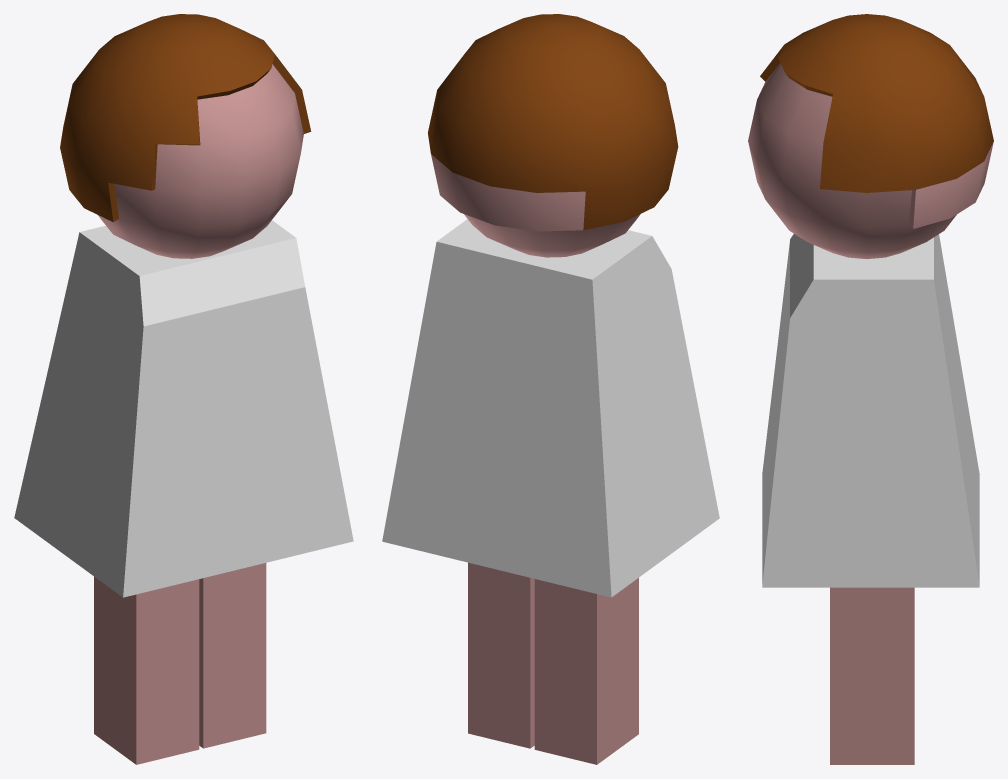
Rendered from Chi_Male.FBX.
The picture shows the model from 3 angles, left to right: view 1: azimuth 30°, elevation 25°; view 2: azimuth 150°, elevation 25°; view 3: azimuth 270°, elevation 25°; orthographic projection.
Parts seen in each view (by area): view 1: Chi_Shirt, Child_Male_Head, Child_Male_Leg; view 2: Chi_Shirt, Child_Male_Head, Child_Male_Leg; view 3: Chi_Shirt, Child_Male_Head, Child_Male_Leg.
Part boxes in pixels (x1,y1,x2,y2): Chi_Shirt: (14, 220, 353, 597); Child_Male_Head: (60, 14, 311, 258); Child_Male_Leg: (94, 563, 266, 764); Chi_Shirt: (382, 219, 719, 597); Child_Male_Head: (428, 14, 678, 257); Child_Male_Leg: (468, 562, 638, 764); Chi_Shirt: (762, 234, 979, 587); Child_Male_Head: (748, 14, 993, 258); Child_Male_Leg: (830, 587, 914, 764).
Size of the model in its own units: 27.65 by 81.27 by 25.55.
